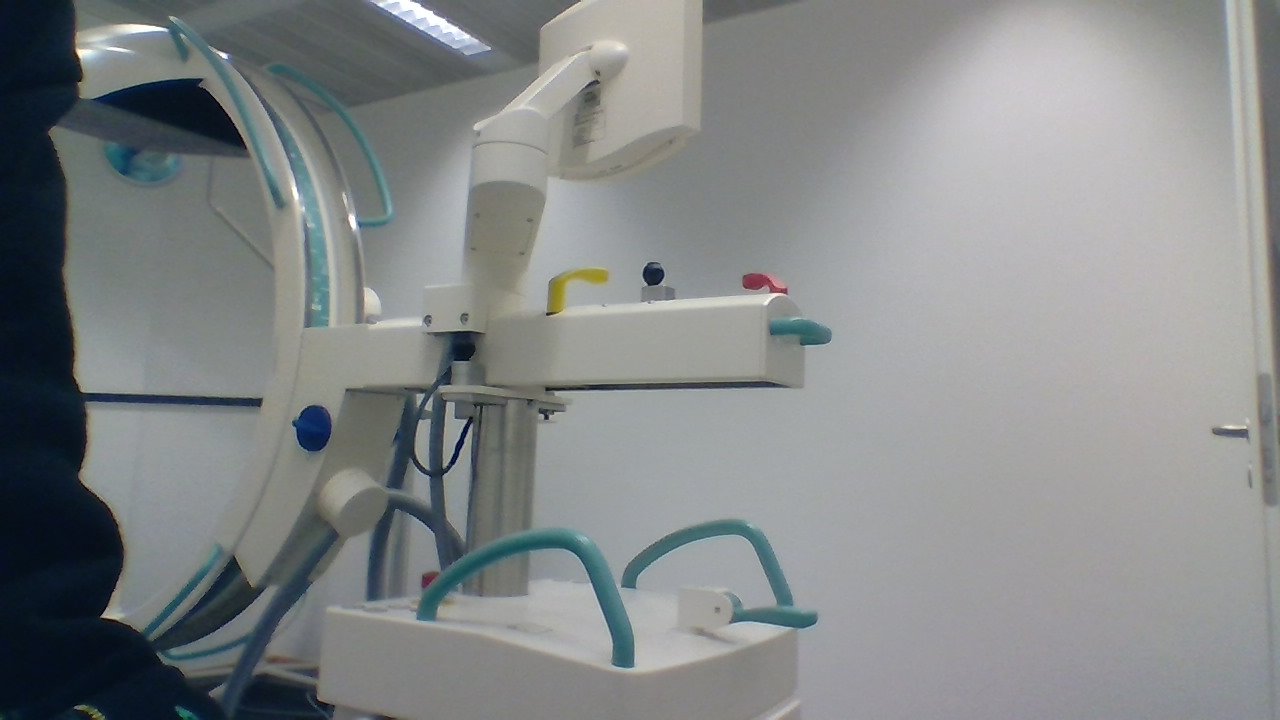carmBACK: (675, 586, 820, 634)
carmLOCK: (290, 402, 331, 453)
carmSCREEN: (535, 1, 705, 179)
carmUP: (20, 22, 284, 159)
